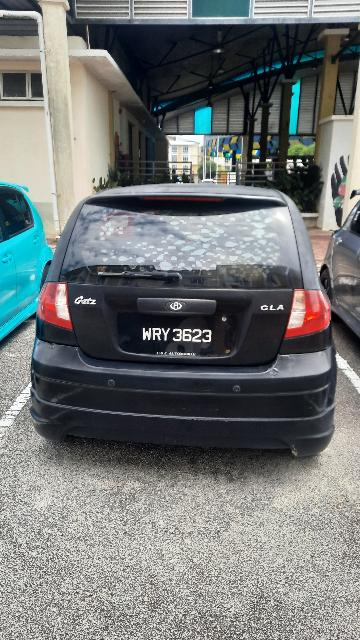License_Plate: (120, 316, 235, 365)
car: (23, 180, 347, 463)
